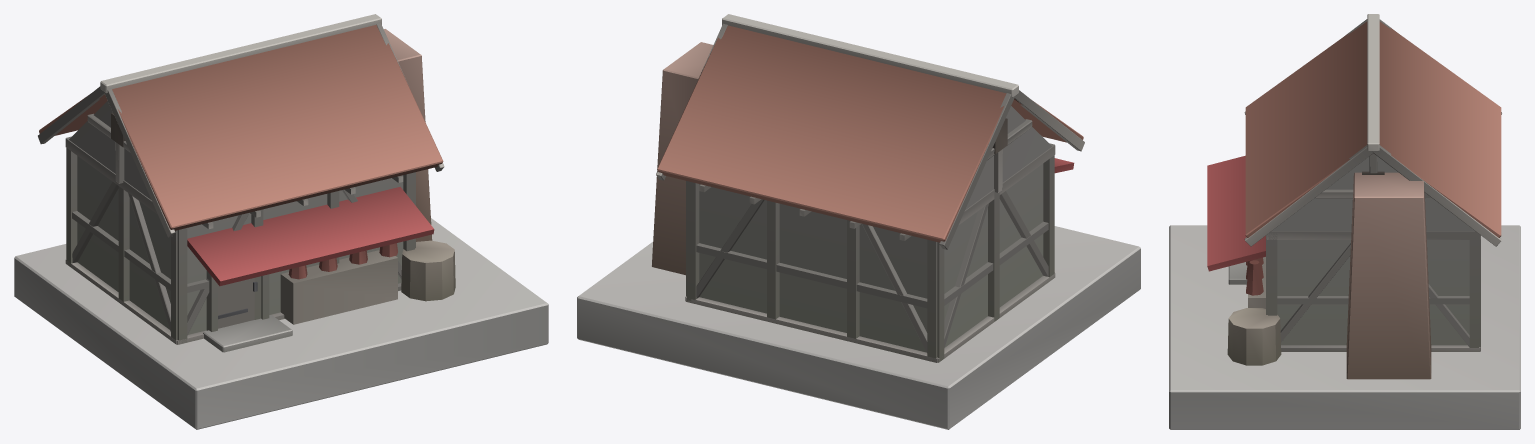
File: butcher_l1_lod0.glb
The picture shows the model from 3 angles, left to right: view 1: azimuth 30°, elevation 25°; view 2: azimuth 150°, elevation 25°; view 3: azimuth 270°, elevation 25°; orthographic projection. The views are drawn at different scales.
Visible parts, largest first — view 1: butcher_l1_lod0; view 2: butcher_l1_lod0; view 3: butcher_l1_lod0.
Part boxes in pixels (x1,y1,x2,y2): butcher_l1_lod0: (14,14,548,429); butcher_l1_lod0: (577,14,1140,429); butcher_l1_lod0: (1169,14,1520,429).
Bounding box in the file's own units: 7.6 × 5.48 × 6.8.
